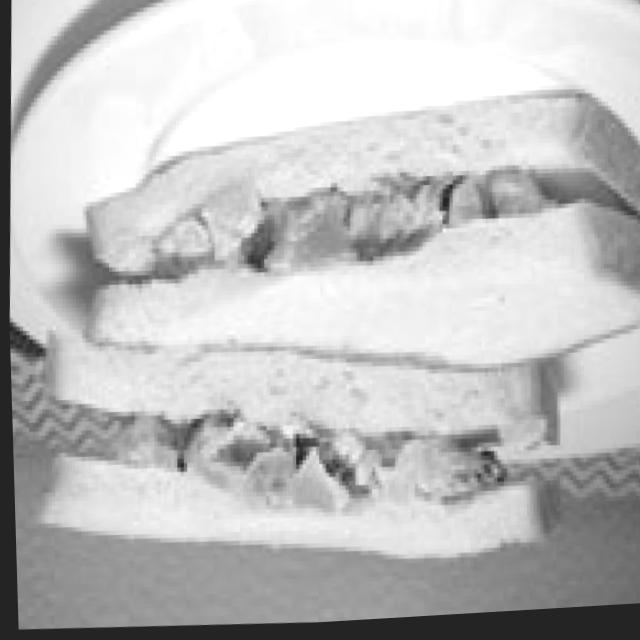三明治: (2, 77, 640, 593)
